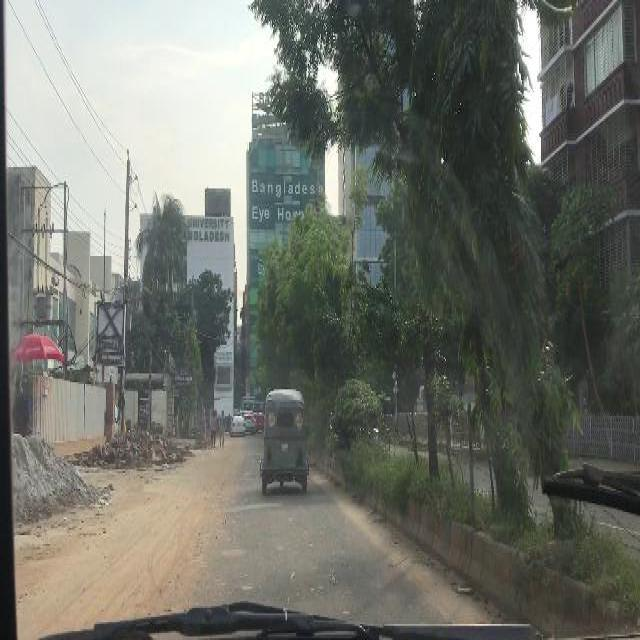car: (228, 412, 244, 434), (256, 412, 266, 430)
suv: (243, 412, 254, 430)
three wheelers -CNG-: (260, 386, 306, 489)
